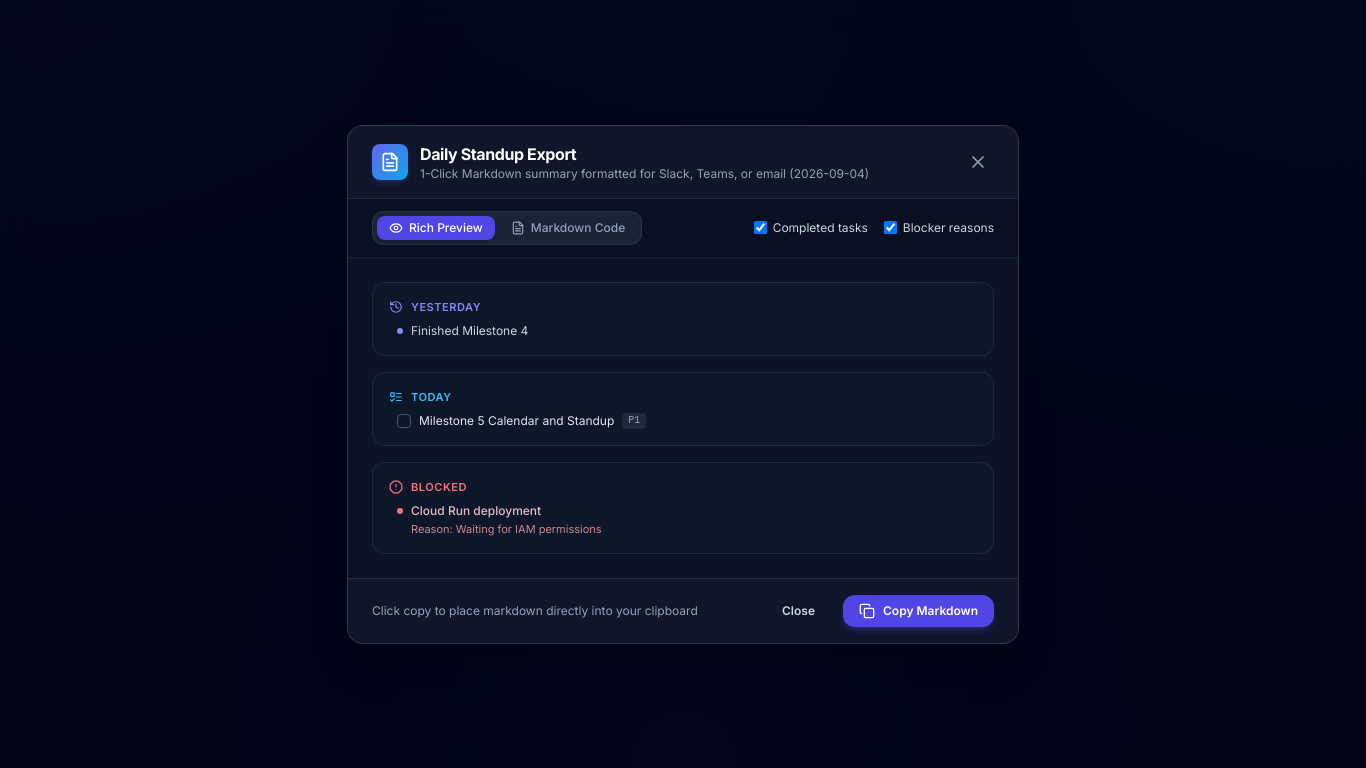
Test: StandupExportModal Component › copies formatted markdown to clipboard and shows confirmation
Click the button with test id "copy-standup-btn".
click(918, 610)  # box top-left (843, 594), bottom-right (994, 626)
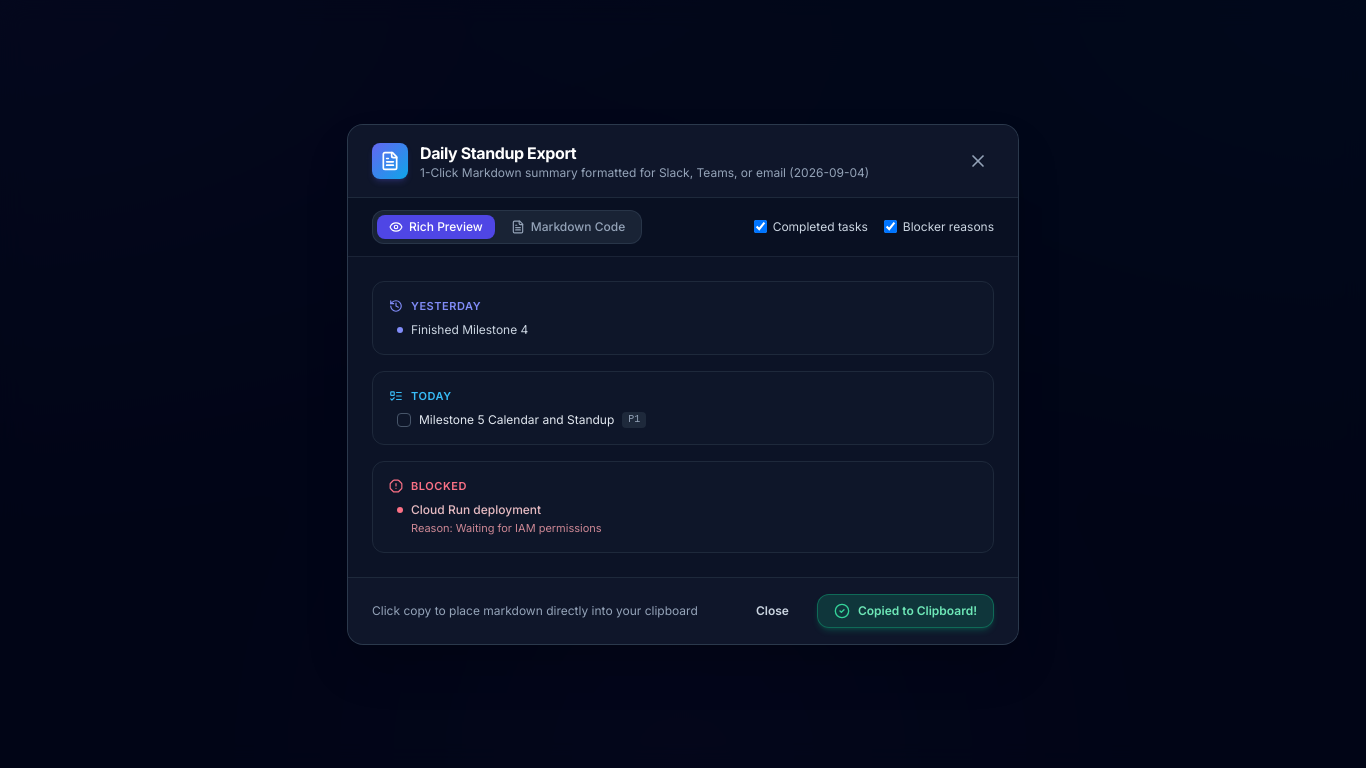
Check: the text with test id "copied-confirmation" reads "Copied to Clipboard!", box top-left (858, 602), bottom-right (977, 618)
